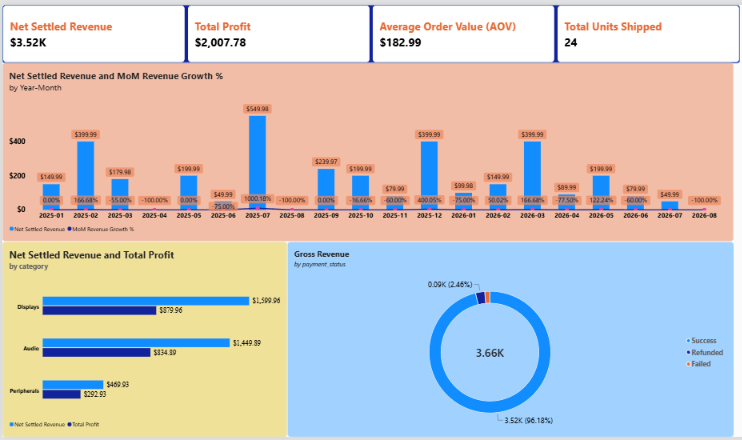

Layout of this report page (visuals, bound fields, positions):
{"tool":"powerbi","page":{"name":" Executive Financial & Product Overview","canvas":[1920,1080],"ordinal":0},"visuals":[{"type":"cardVisual","fields":{"Data":["_measures.Net Settled Revenue","_measures.Total Profit","_measures.Average Order Value (AOV)","_measures.Total Units Shipped"]},"box":[0,0,1844,146],"z":0},{"type":"lineClusteredColumnComboChart","fields":{"Category":["DateTable.Year-Month"],"Y":["_measures.Net Settled Revenue"],"Y2":["_measures.MoM Revenue Growth %"]},"box":[0,146,1828,446],"z":1},{"type":"clusteredBarChart","fields":{"Category":["products.category"],"Y":["_measures.Net Settled Revenue","_measures.Total Profit"]},"box":[0,592,712,488],"z":2},{"type":"donutChart","fields":{"Category":["transactions.payment_status","transactions.payment_method"],"Y":["_measures.Gross Revenue"]},"box":[712,592,1116,488],"z":3}]}

Visuals, with their boxes on the page's 1920x1080 design canvas (x1, y1, x2, y2). These are canvas units, not pixel positions in the 742x440 screenshot, which may show the page scaled, cropped or inside an application window:
cardVisual - _measures.Net Settled Revenue x _measures.Total Profit: BBox(0, 0, 1844, 146)
lineClusteredColumnComboChart - DateTable.Year-Month x _measures.Net Settled Revenue: BBox(0, 146, 1828, 592)
clusteredBarChart - products.category x _measures.Net Settled Revenue: BBox(0, 592, 712, 1080)
donutChart - transactions.payment_status x transactions.payment_method: BBox(712, 592, 1828, 1080)
